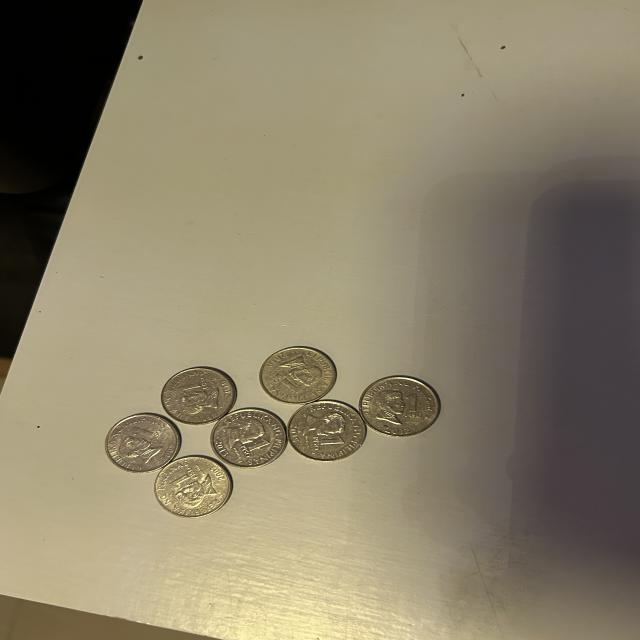1_Old_Front: (126, 423, 166, 445), (271, 372, 301, 398), (401, 390, 424, 423), (164, 468, 199, 488), (182, 377, 216, 396), (234, 439, 269, 457), (303, 438, 348, 450)
